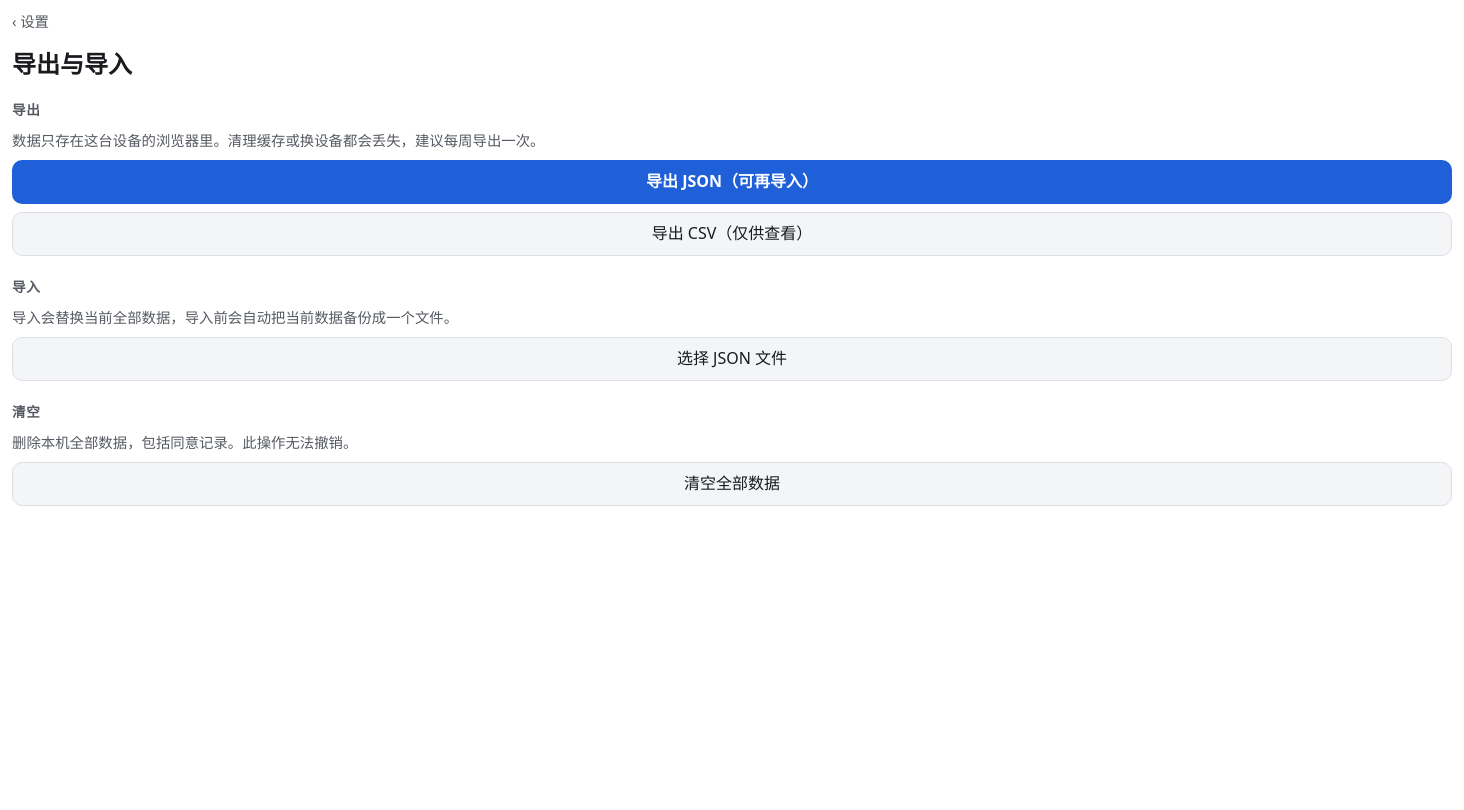
Test: 导出 › 点导出后告知导出了几个文件
What coordinates should you click on to do the following:
click the button "导出 JSON（可再导入）"
I would click on:
 (732, 182)
Its box is [12,160,1452,204].
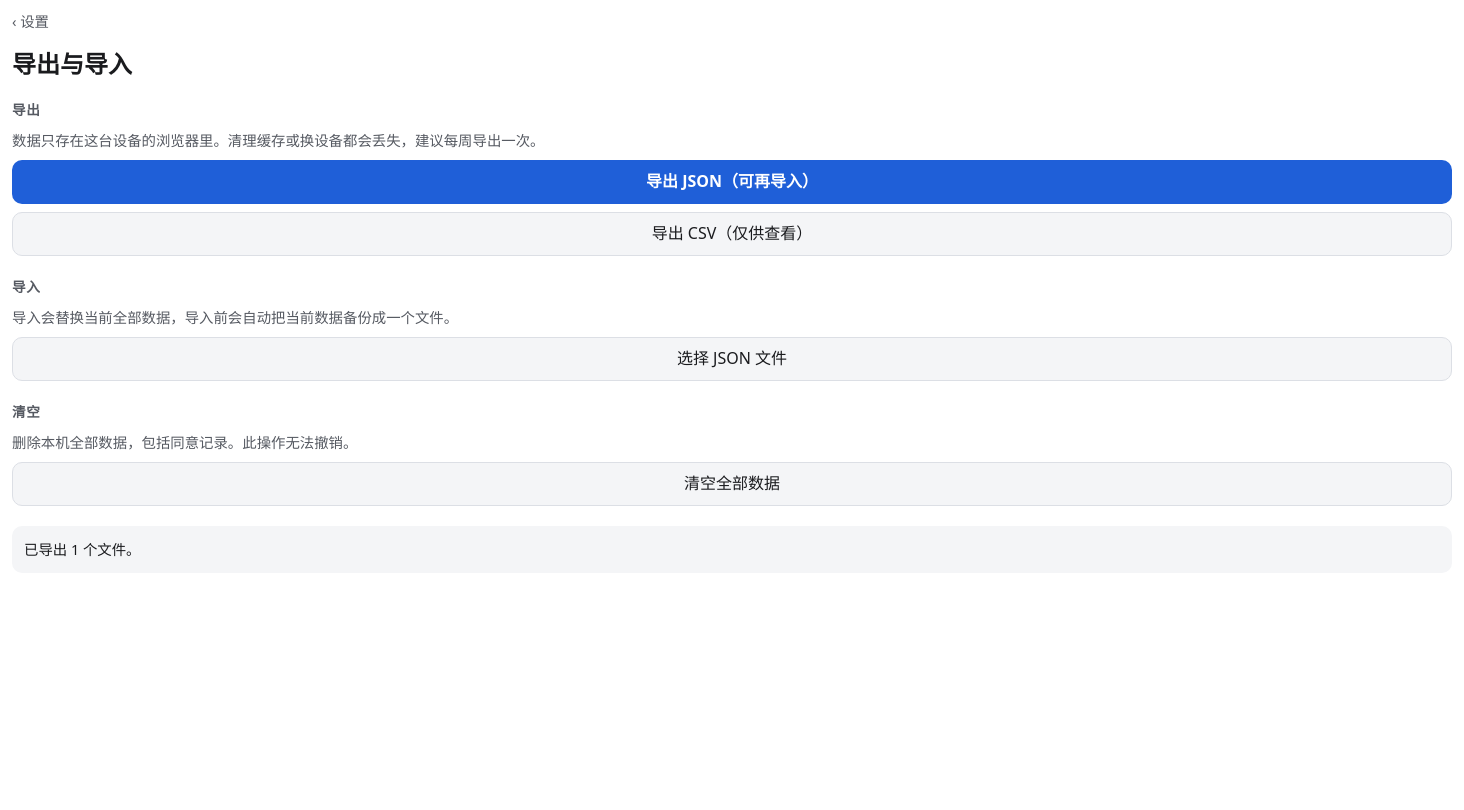
Result: the text "已导出 1 个文件。" is shown at [12,526,1452,573]
